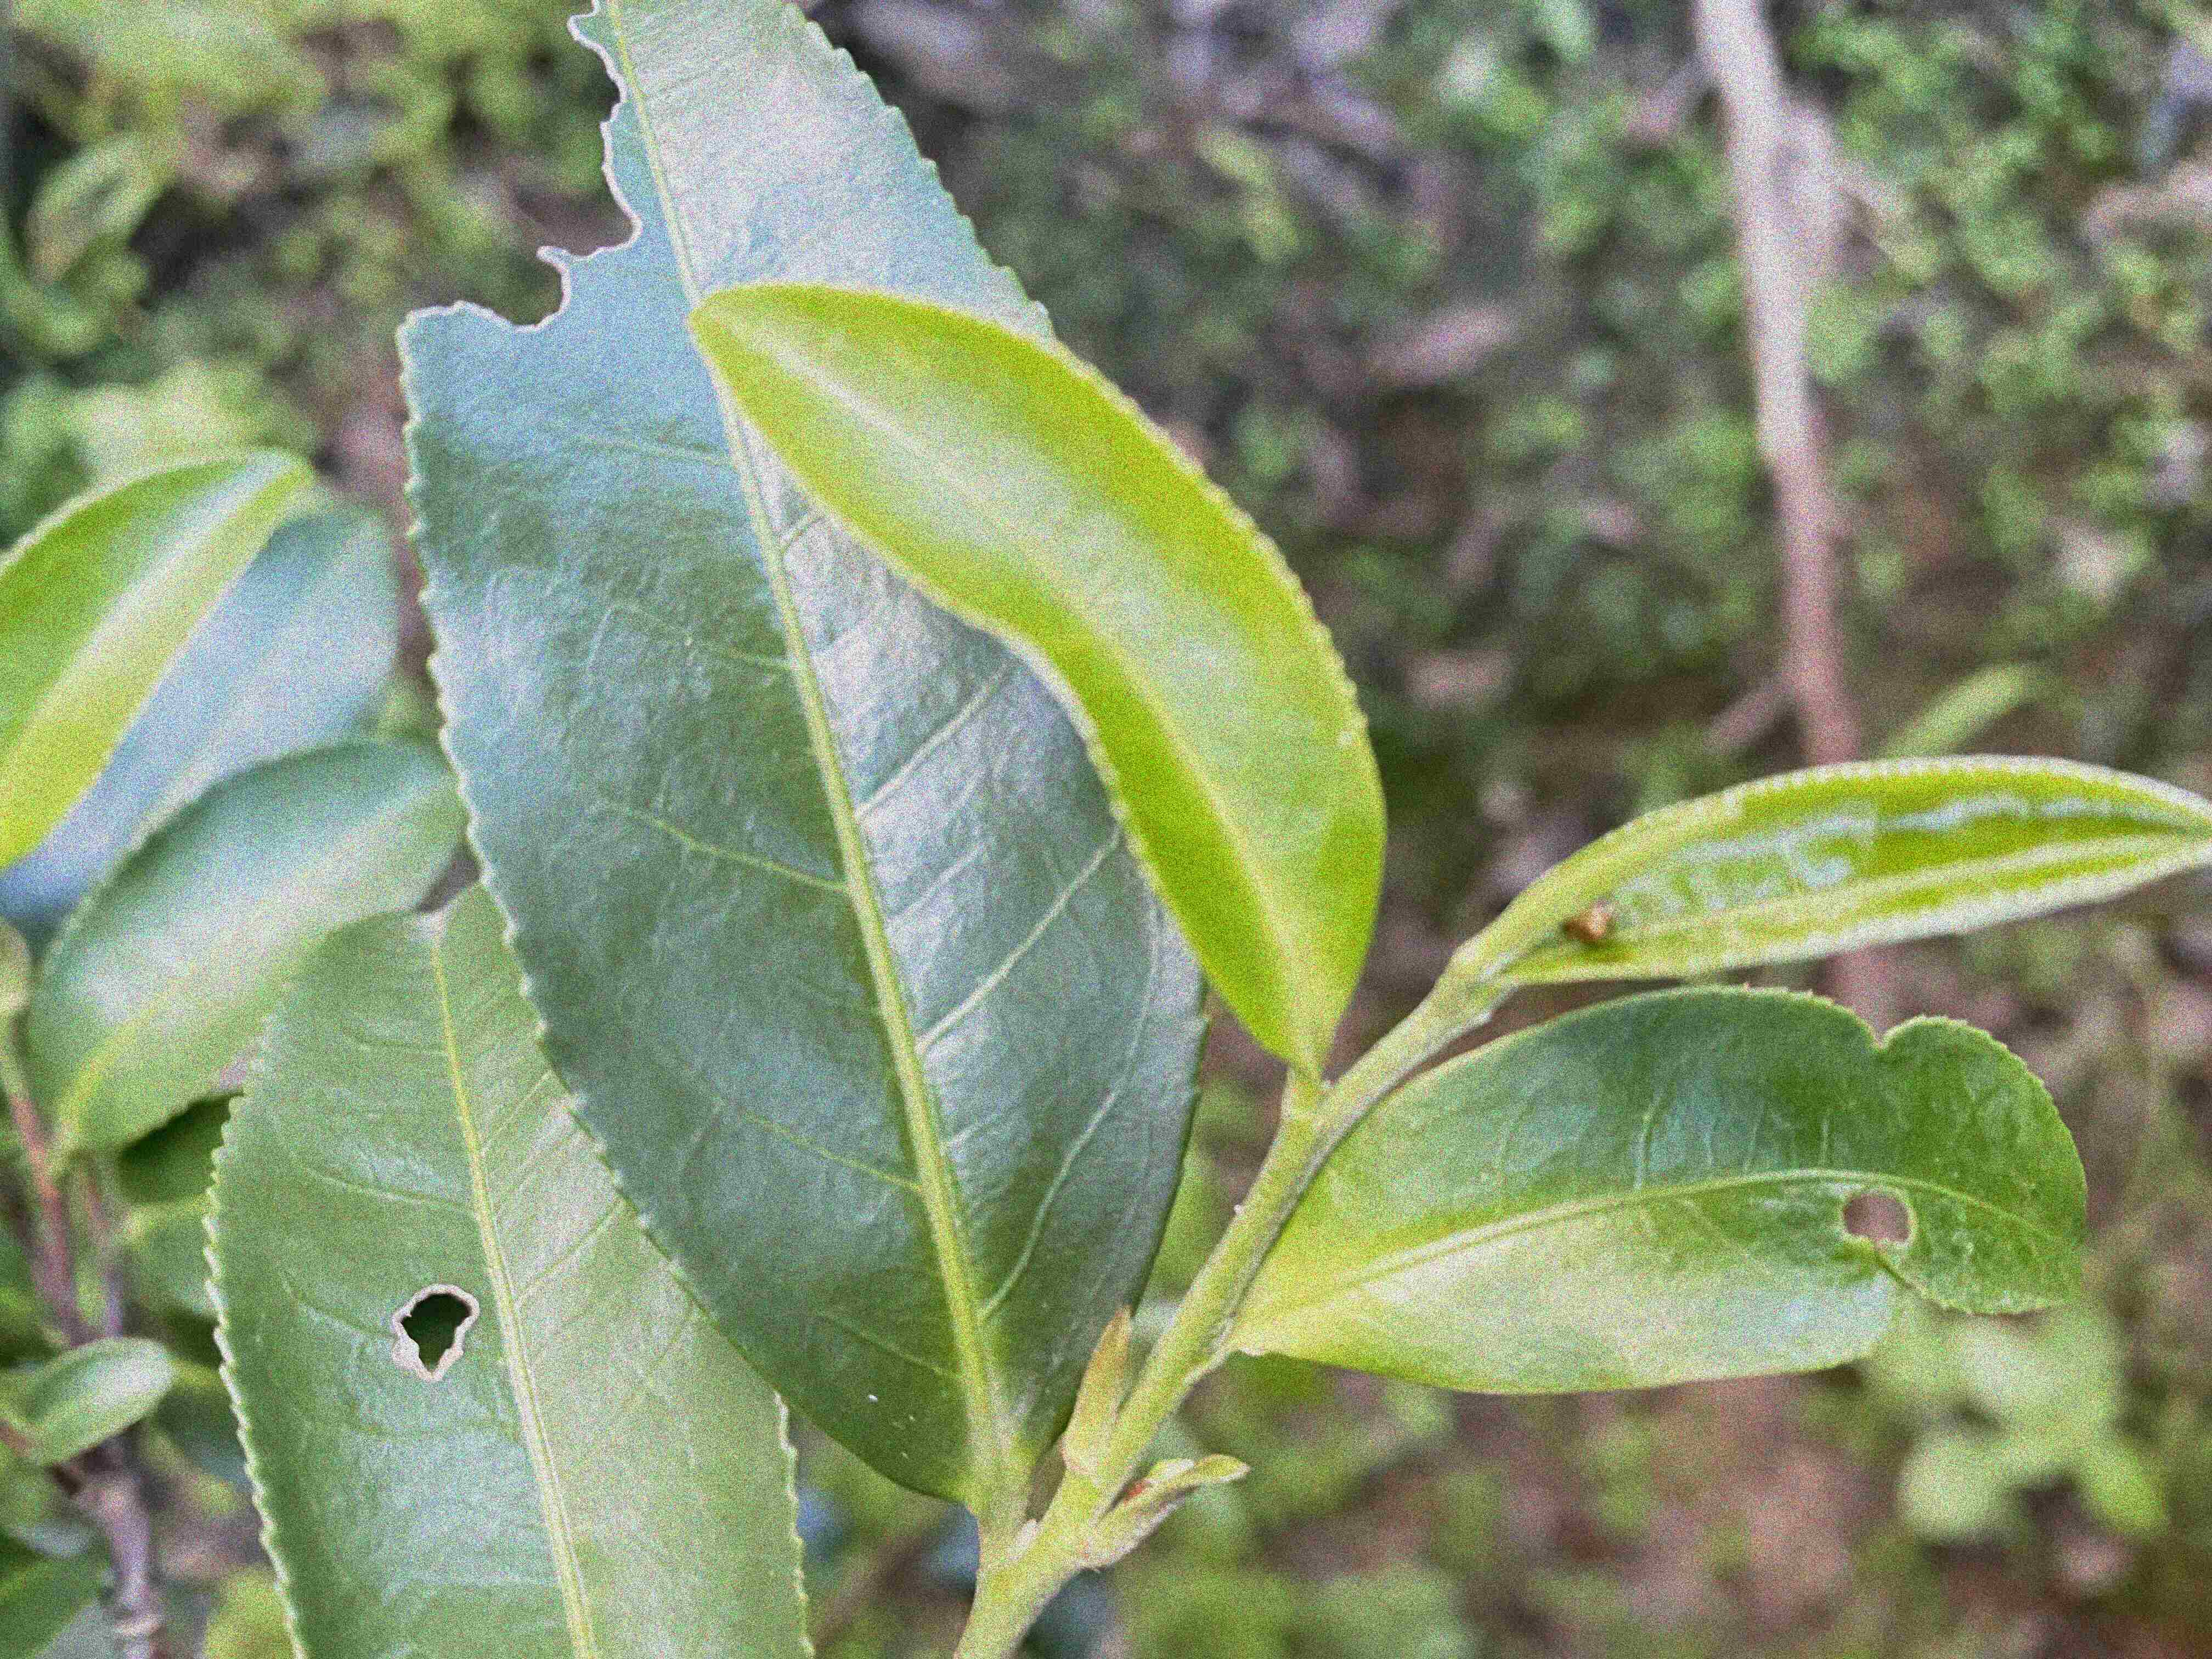chihuo_high: (394, 3, 1214, 1516), (1252, 983, 2092, 1399)
chihuo_low: (199, 880, 819, 1656)
healthy: (685, 274, 1392, 1065)
tanju_low: (1500, 756, 2209, 986)
